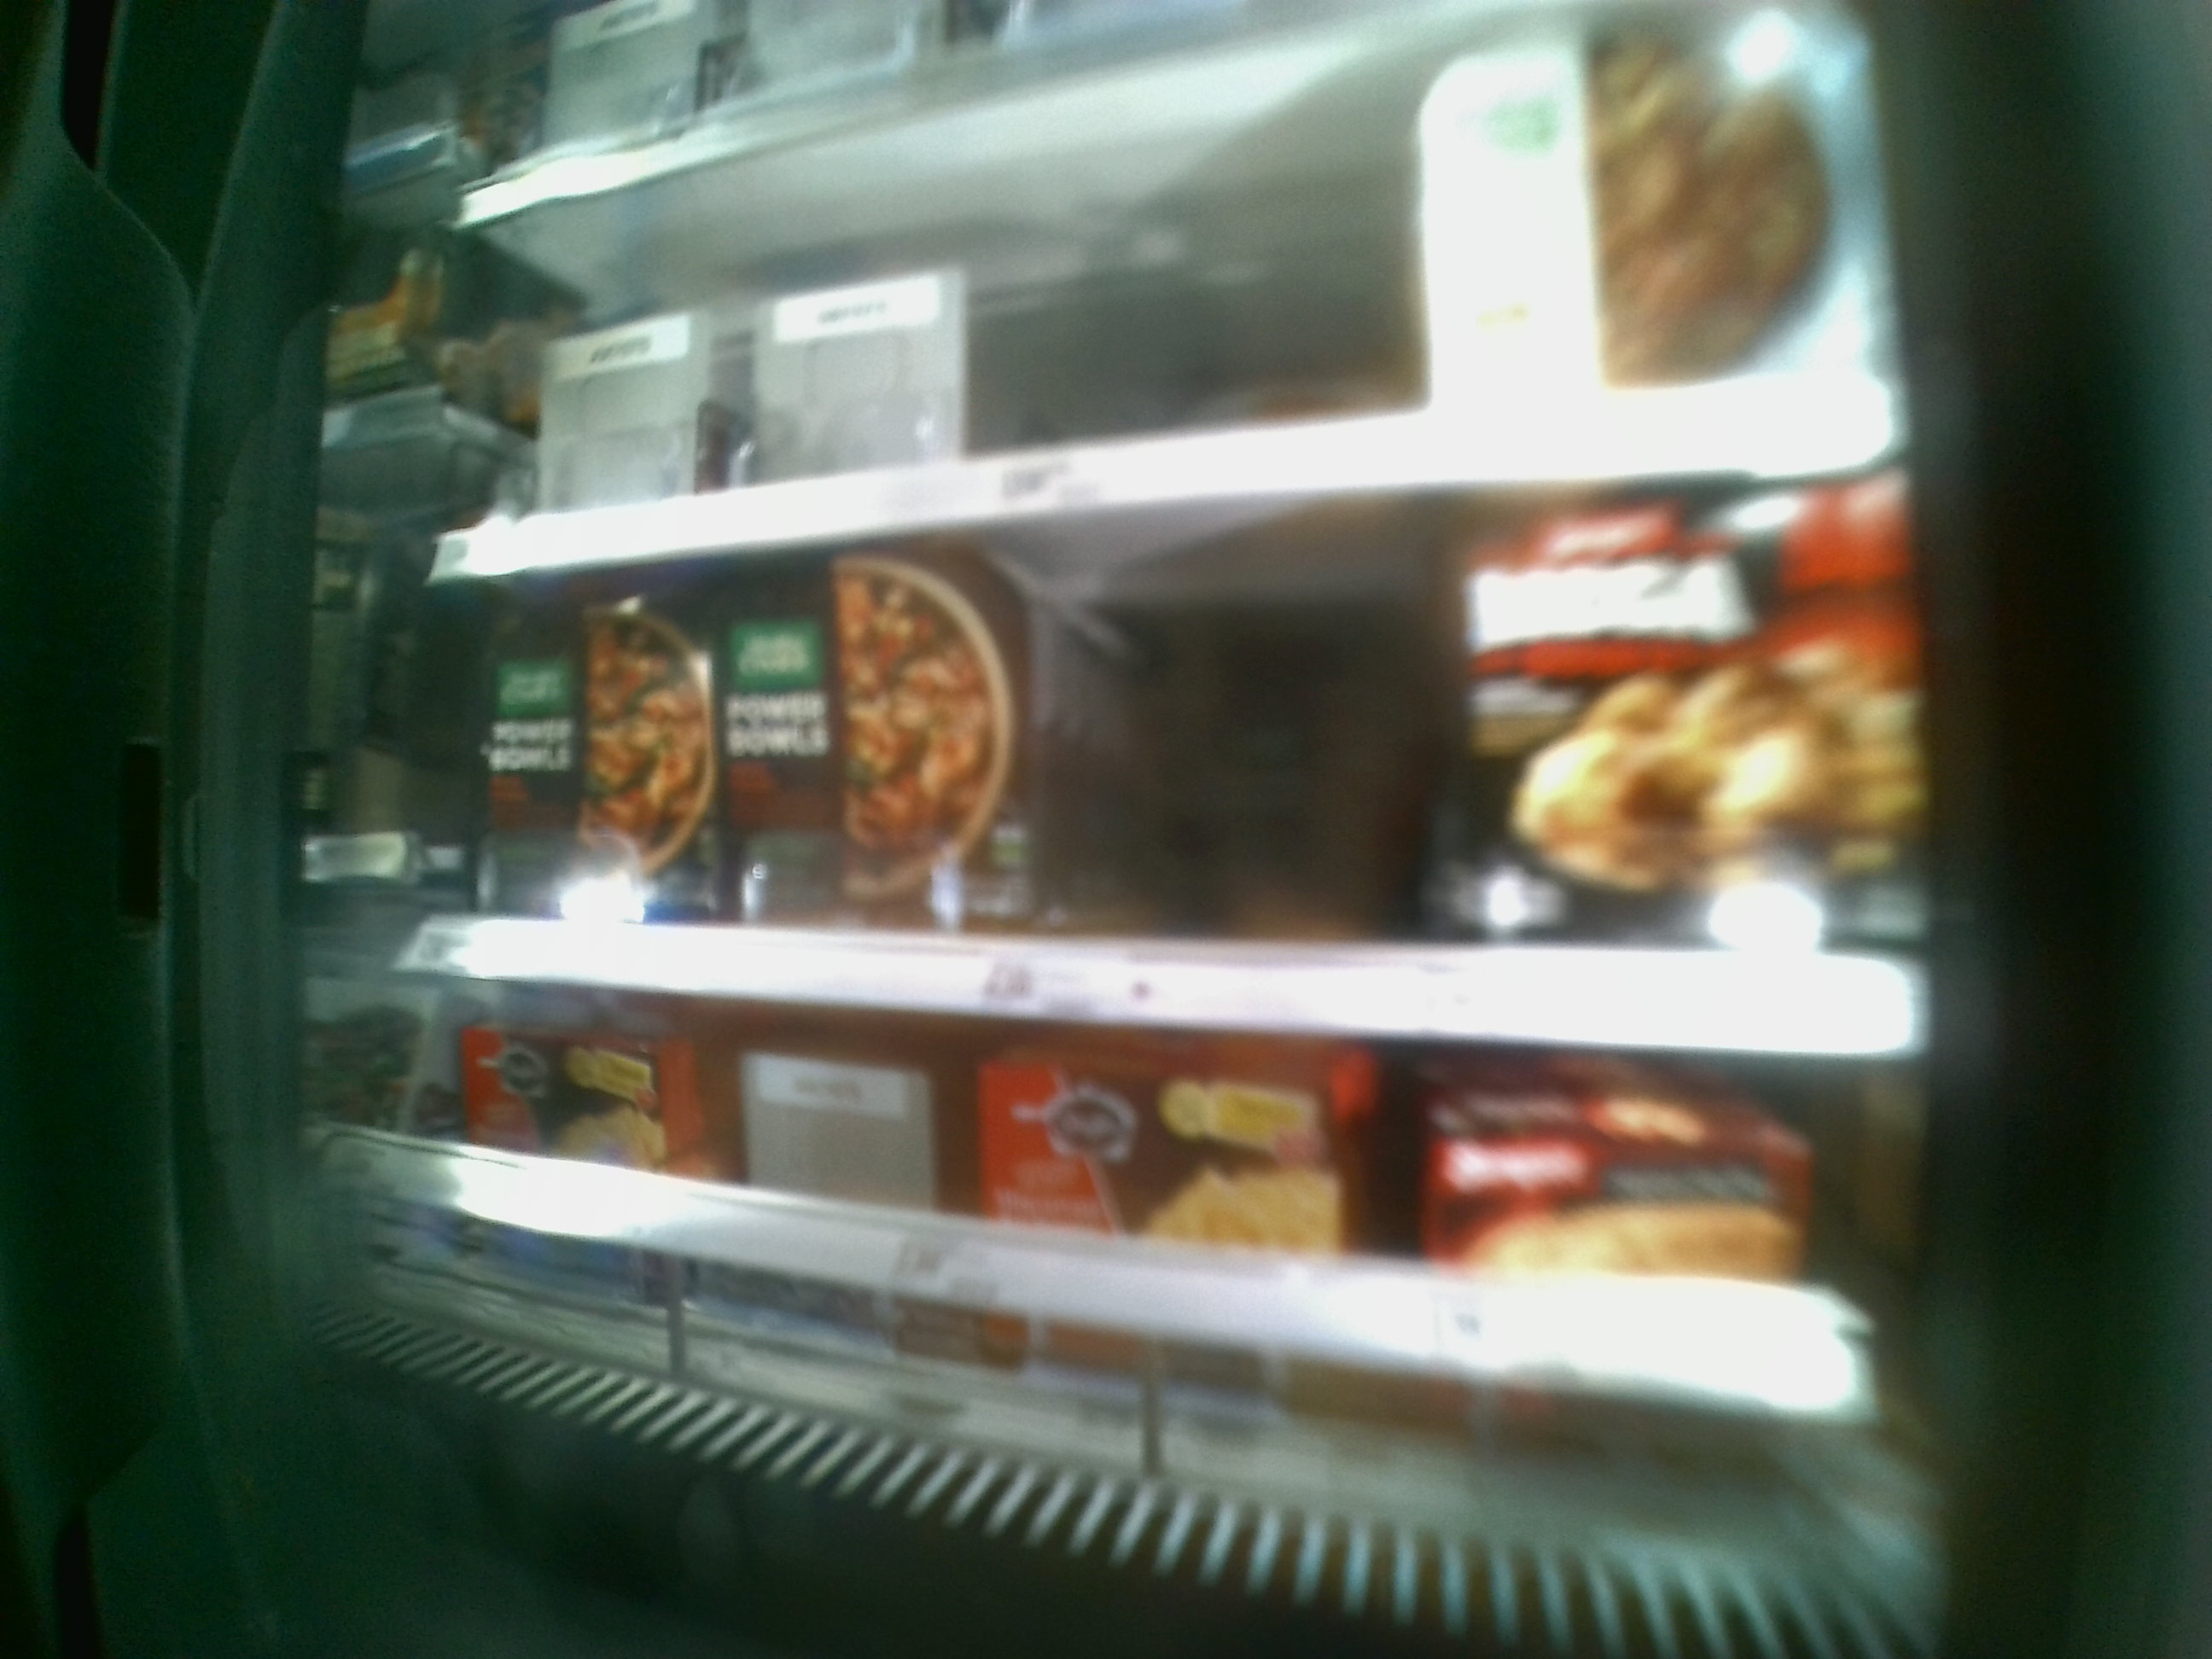shelf: (409, 448, 1923, 1054), (361, 979, 1902, 1485)
